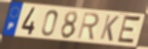0: (41, 9, 59, 37)
4: (20, 7, 36, 36)
8: (59, 10, 81, 40)
E: (115, 14, 142, 47)
K: (99, 14, 121, 43)
R: (76, 11, 100, 41)
